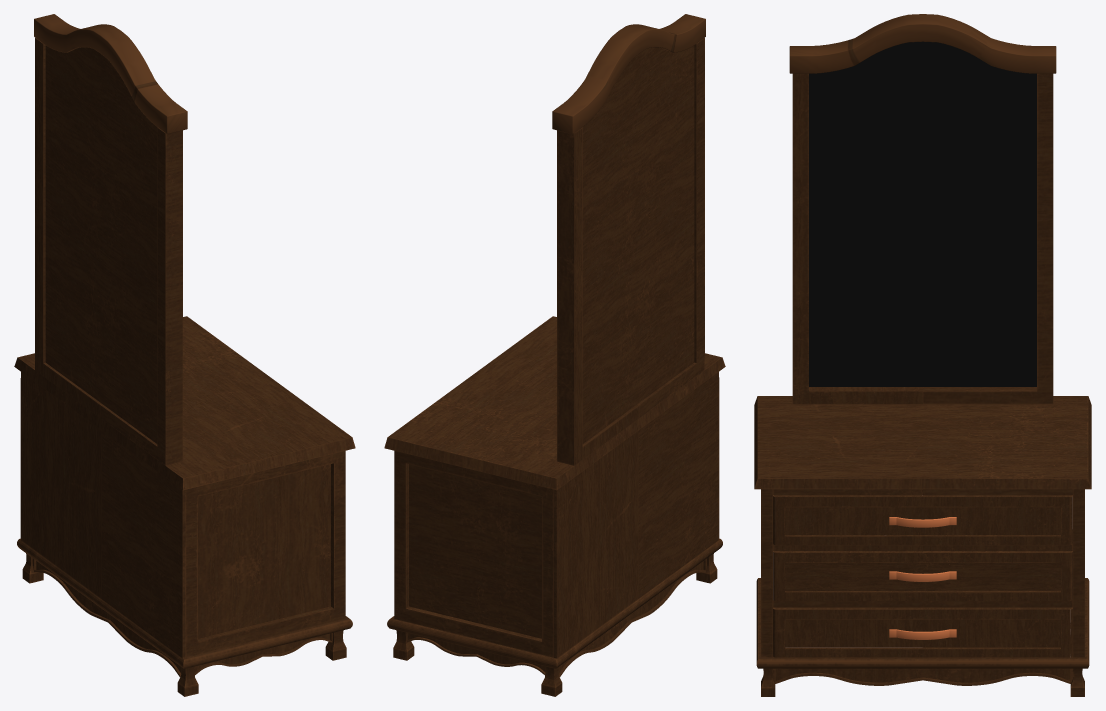
File: pbr_dressing_table__low_poly.glb
3 views of the same model, side by side, from view 1: azimuth 30°, elevation 25°; view 2: azimuth 150°, elevation 25°; view 3: azimuth 270°, elevation 25° (orthographic).
Parts seen in each view (by area): view 1: Cube, Cube_008; view 2: Cube, Cube_008; view 3: Cube_007, Cube, Cube_002, Cube_006, Cube_005, Cube_008, Cube_001, Cube_003, Cube_004.
Boxes of the visible parts, <box> form: Cube: <box>14,38,355,696</box>; Cube_008: <box>34,14,187,133</box>; Cube: <box>384,38,725,696</box>; Cube_008: <box>552,14,705,133</box>; Cube_007: <box>809,41,1036,386</box>; Cube: <box>754,73,1091,696</box>; Cube_002: <box>773,607,1072,657</box>; Cube_006: <box>773,495,1072,545</box>; Cube_005: <box>773,551,1072,600</box>; Cube_008: <box>789,14,1056,73</box>; Cube_001: <box>889,571,956,581</box>; Cube_003: <box>889,629,956,639</box>; Cube_004: <box>889,517,956,527</box>.
Bounding box in the file's own units: 0.7331 × 2.45 × 1.24.
5 materials, 3 textured.
